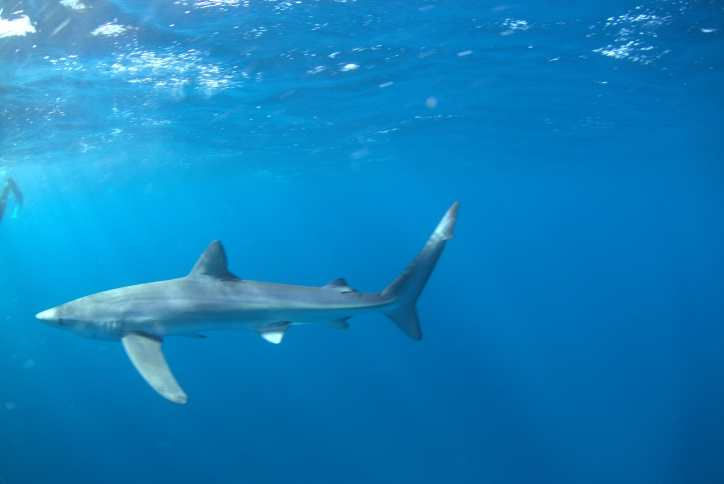Azul: (22, 186, 498, 413)
